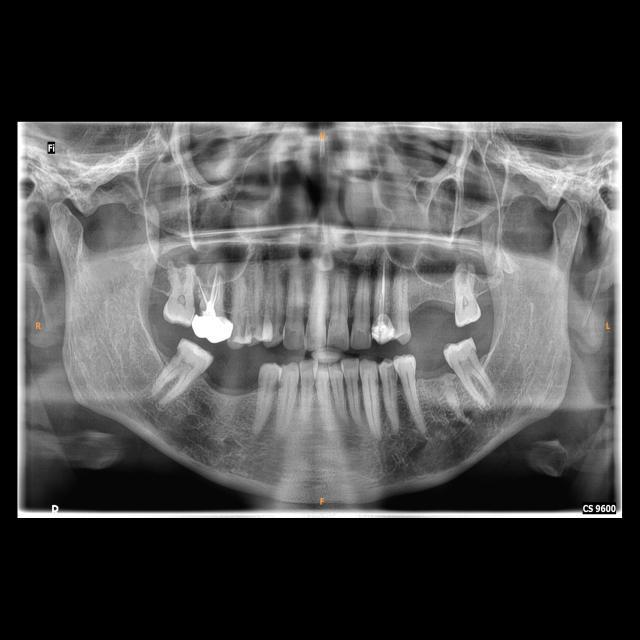dentin-curugu: (170, 344, 183, 361)
kanal-tedavisi: (193, 266, 223, 310), (372, 257, 390, 312)
kaplama: (191, 308, 235, 343), (372, 313, 397, 343)
